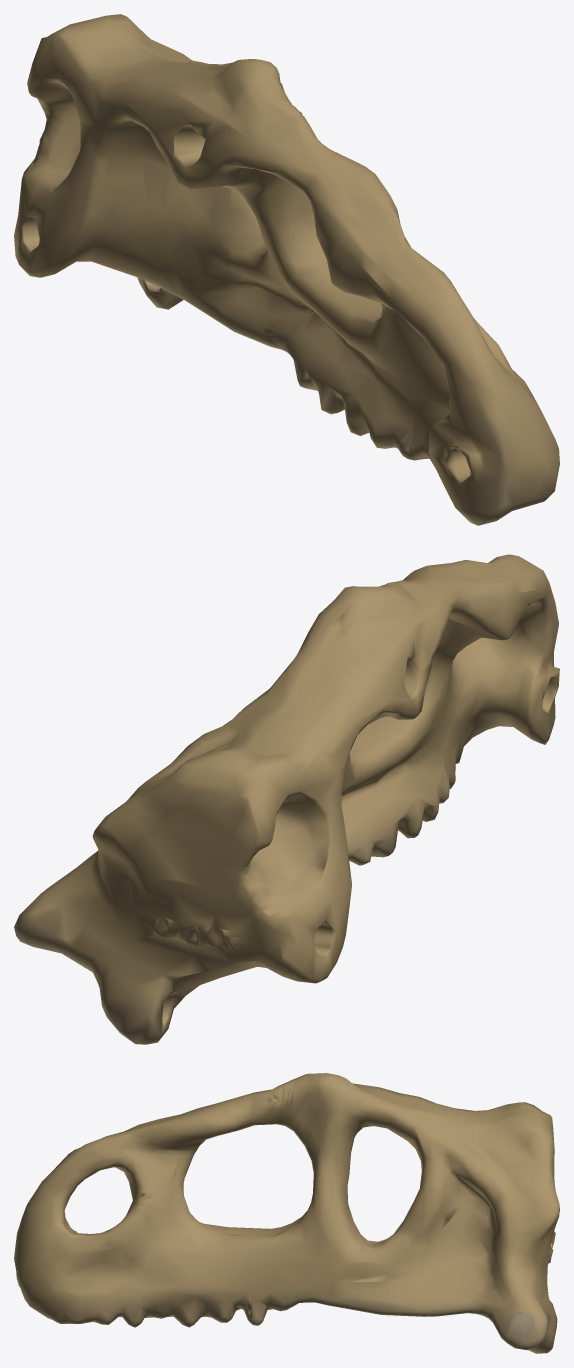
The model's file is bone1.glb.
3 renders of one model, top to bottom at view 1: azimuth 30°, elevation 25°; view 2: azimuth 150°, elevation 25°; view 3: azimuth 270°, elevation 25°, orthographic. The views are drawn at different scales.
Parts seen in each view (by area): view 1: tripo_node_318f92fa-1718-44f8-8051-51df661c7309; view 2: tripo_node_318f92fa-1718-44f8-8051-51df661c7309; view 3: tripo_node_318f92fa-1718-44f8-8051-51df661c7309.
Boxes of the visible parts, x1,y1,x2,y2 form: tripo_node_318f92fa-1718-44f8-8051-51df661c7309: (14, 14, 559, 525); tripo_node_318f92fa-1718-44f8-8051-51df661c7309: (14, 554, 559, 1044); tripo_node_318f92fa-1718-44f8-8051-51df661c7309: (14, 1073, 559, 1353).
Size of the model in its own units: 0.4286 by 0.5067 by 0.9814.
Materials: 1 (1 with a texture image).
